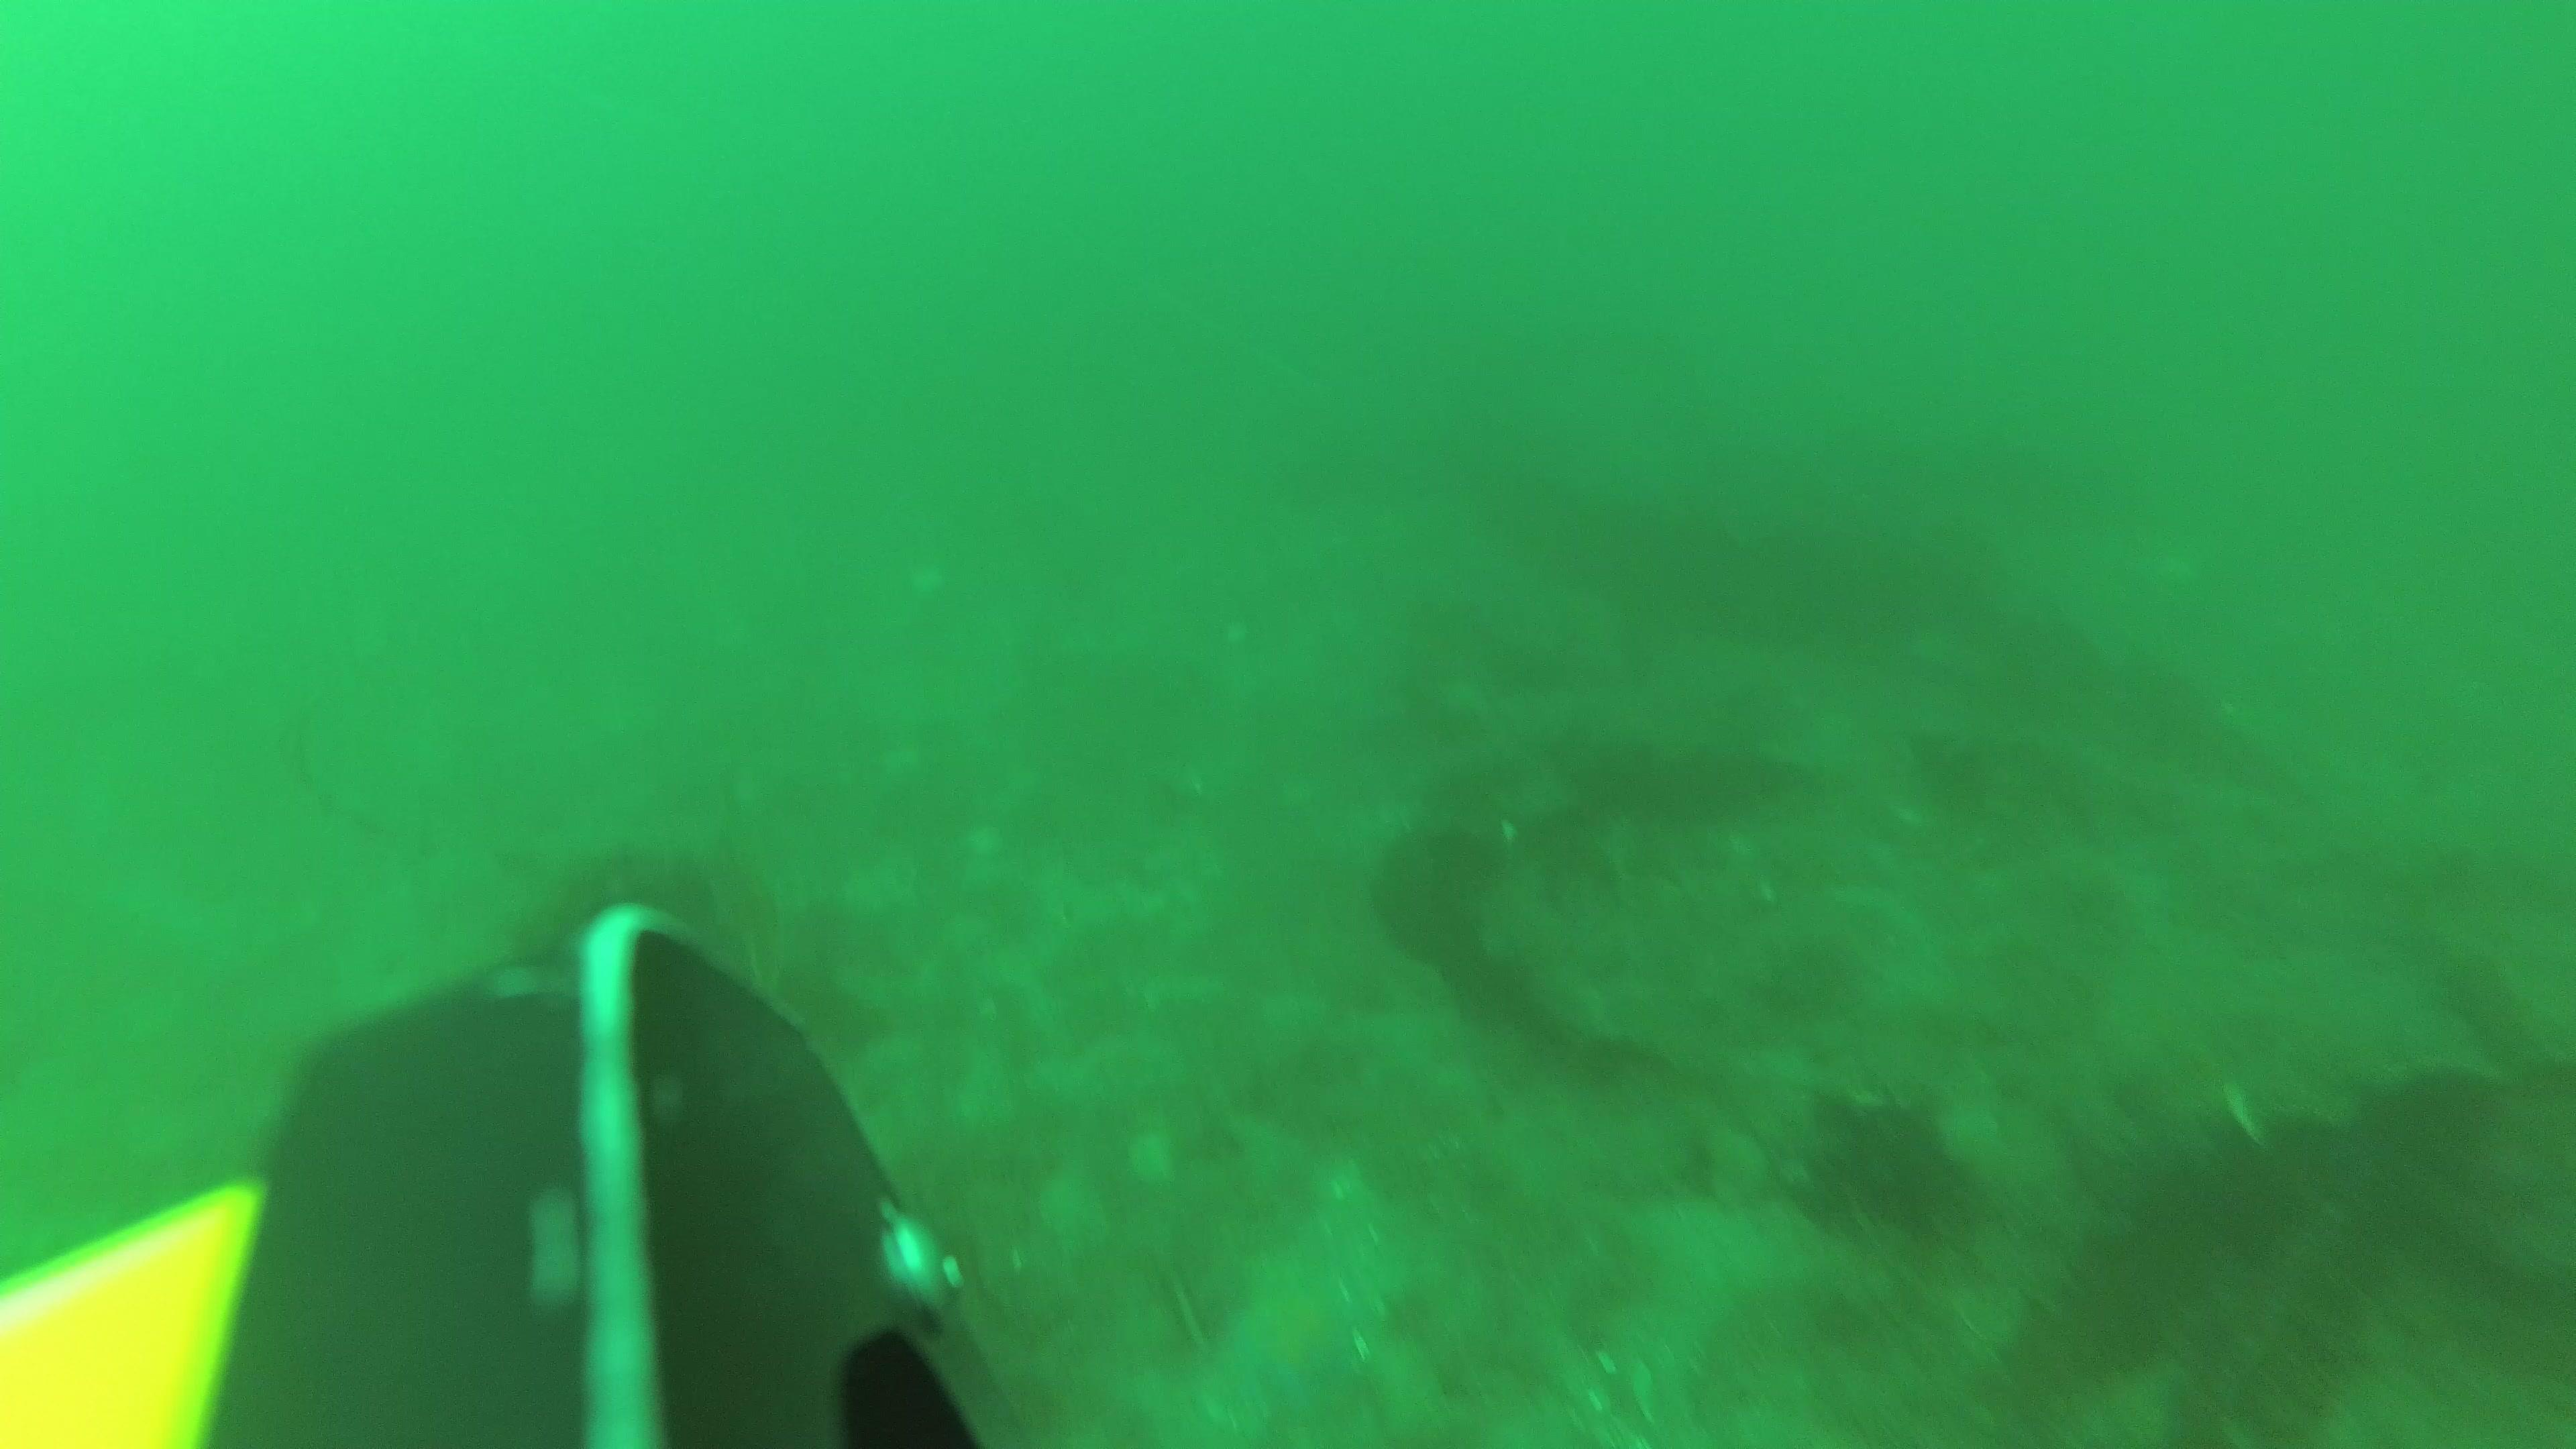starfish: (1224, 1279, 1355, 1407)
